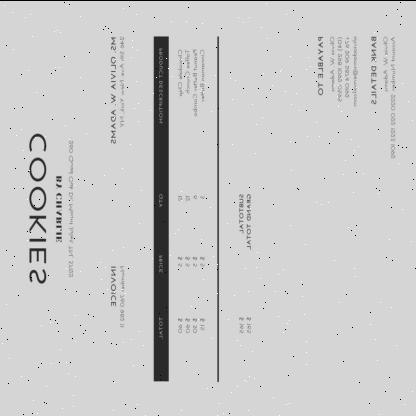Paragraph: (22, 126, 76, 288), (368, 32, 398, 160), (315, 32, 359, 108), (235, 189, 254, 336), (108, 32, 126, 146), (108, 262, 126, 328)
Table: (154, 36, 218, 380)
